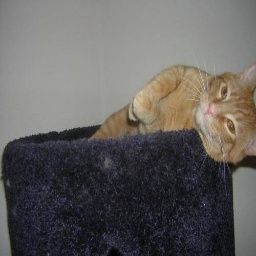cat: (85, 62, 256, 165)
